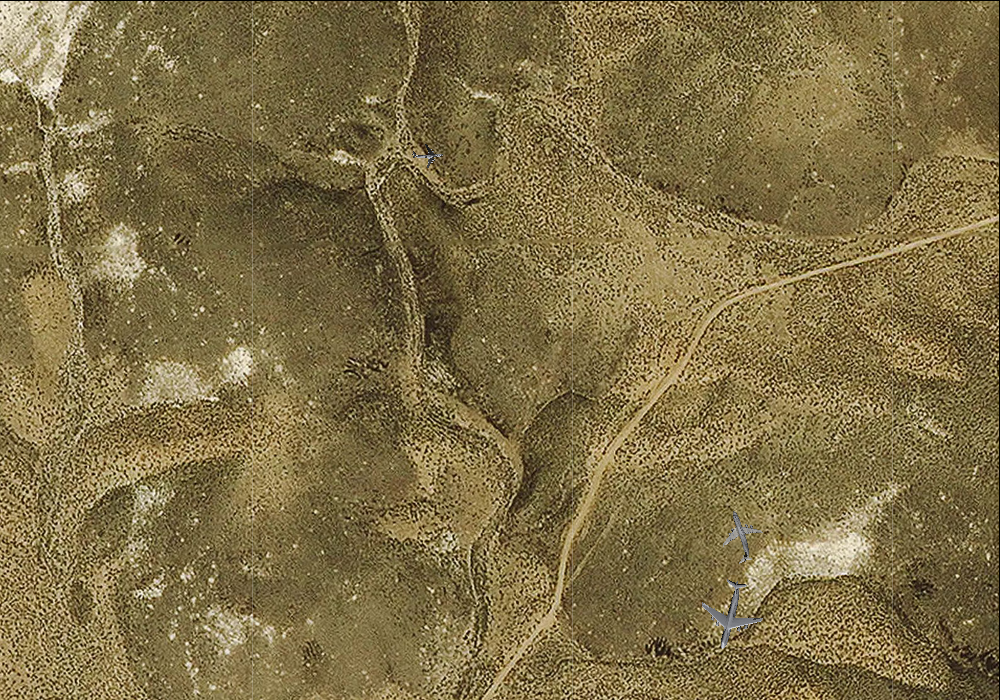plane: (689, 572, 771, 657), (708, 504, 772, 570), (411, 138, 444, 170)
